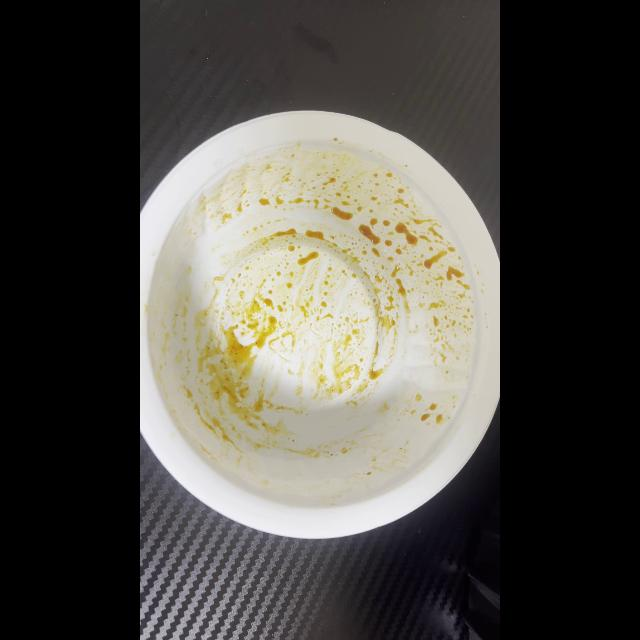dirty: (140, 112, 496, 532)
